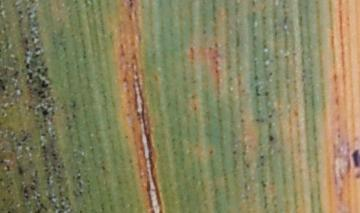tarspot: (350, 149, 360, 166), (269, 135, 275, 143)
